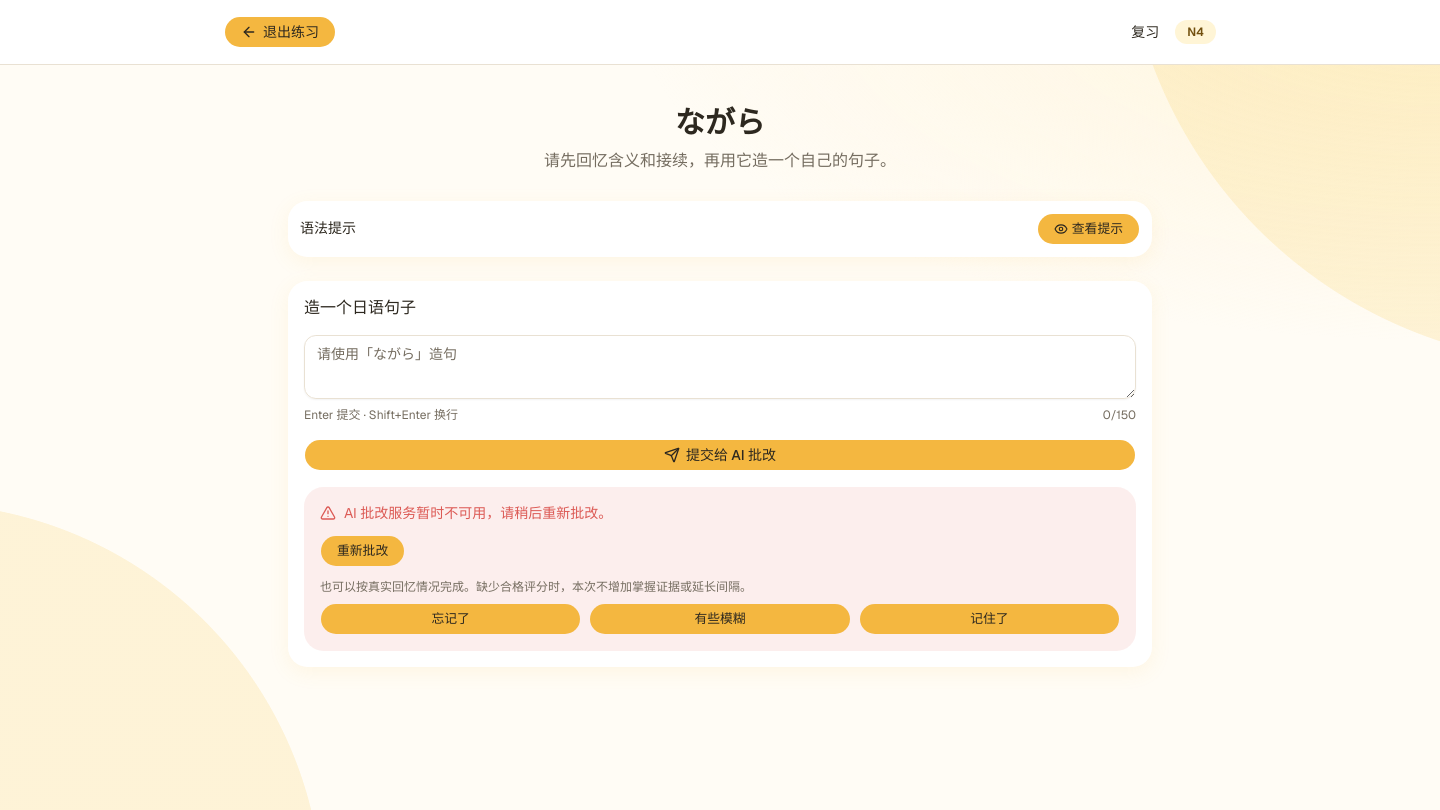
Test: resets fast polling when manually retrying the same job after a long failed wait
Click the button "重新批改": (363, 551) [320,535,405,567]
Wait 1001 ms
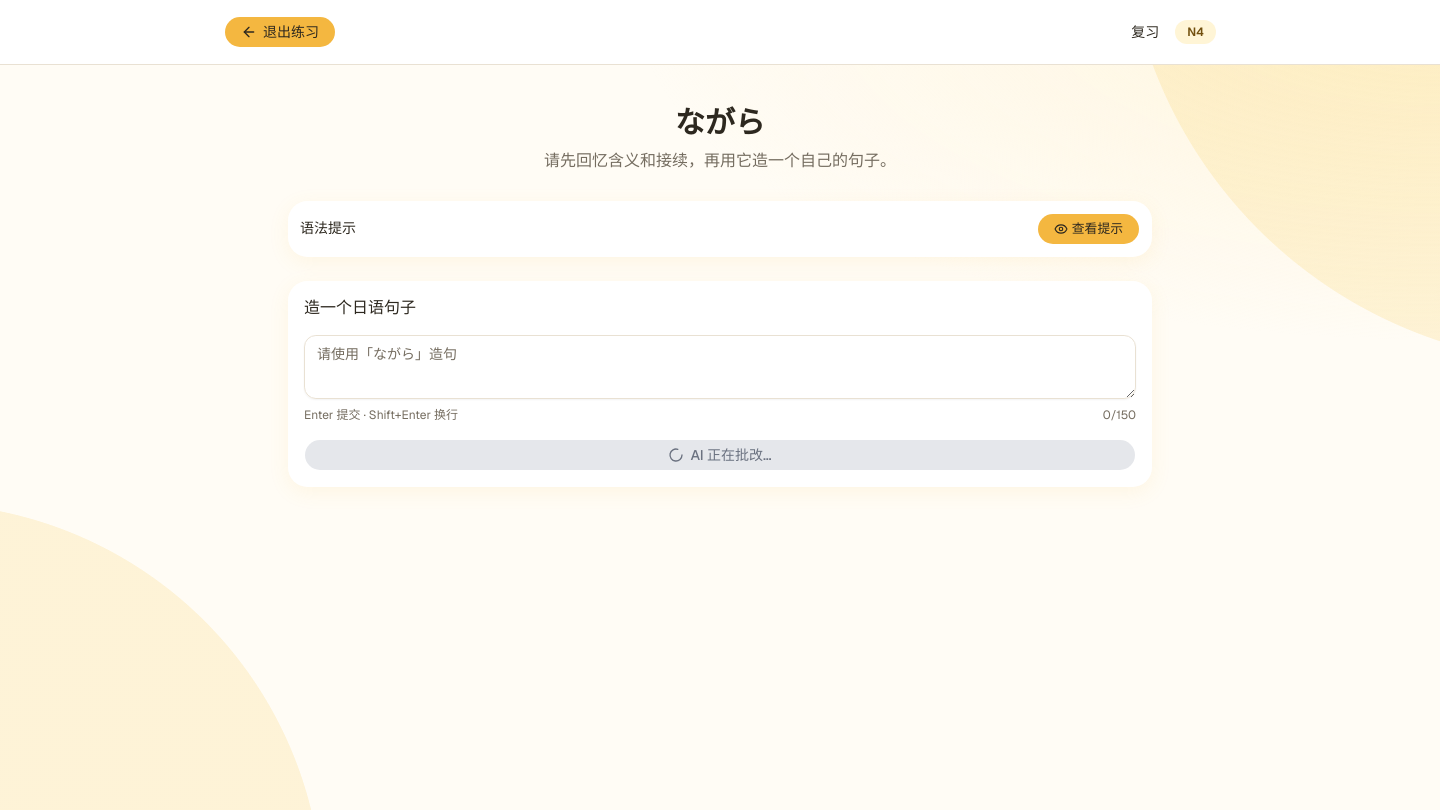
Result: the button "AI 正在批改…" is disabled at [304,439,1136,471]
